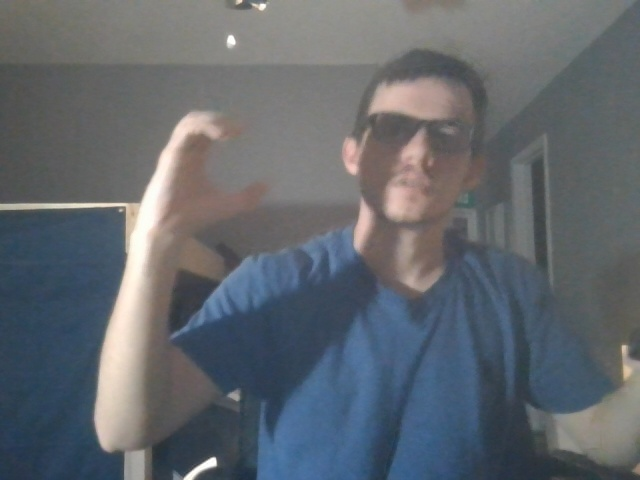C: (138, 95, 274, 223)
